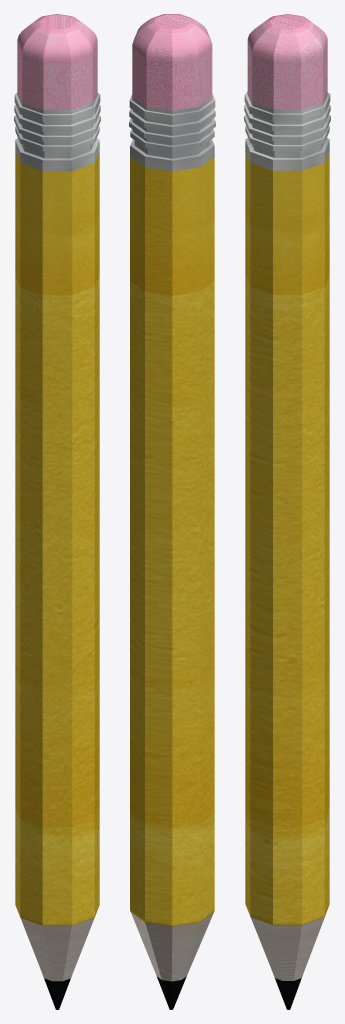
File: LAPIZ_UNITY.fbx
3 views of the same model, side by side, from view 1: azimuth 90°, elevation 25°; view 2: azimuth 150°, elevation 25°; view 3: azimuth 330°, elevation 25° (orthographic).
Visible parts, largest first — view 1: lapiz; view 2: lapiz; view 3: lapiz.
Boxes of the visible parts, left/top/right/bottom form: lapiz: left=14, top=14, right=100, bottom=1009; lapiz: left=129, top=14, right=215, bottom=1009; lapiz: left=244, top=14, right=330, bottom=1009.
Bounding box in the file's own units: 1.99 × 25.36 × 2.02.
